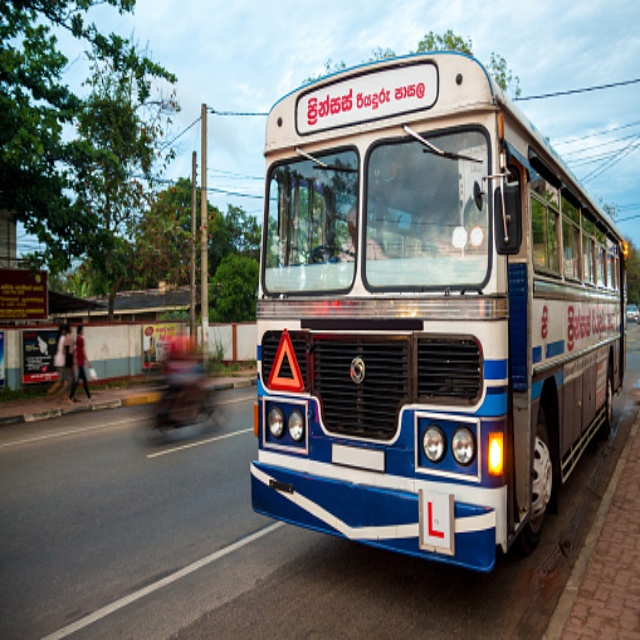Bus: (249, 47, 626, 576)
